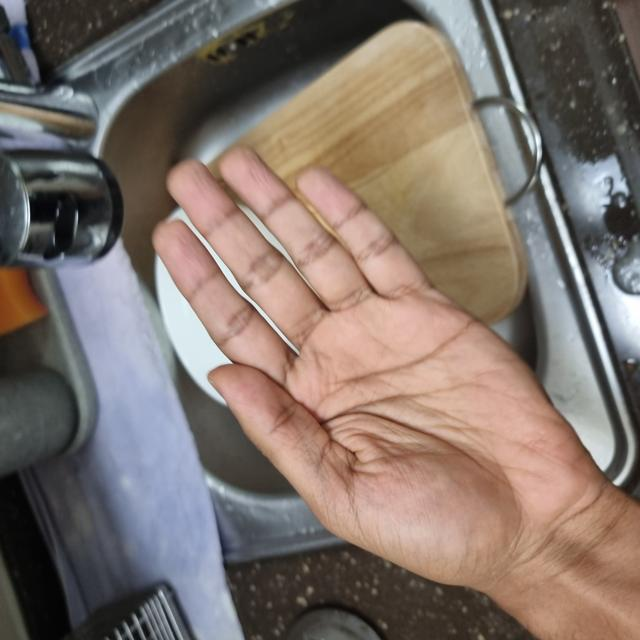Paper: (44, 157, 488, 597)
